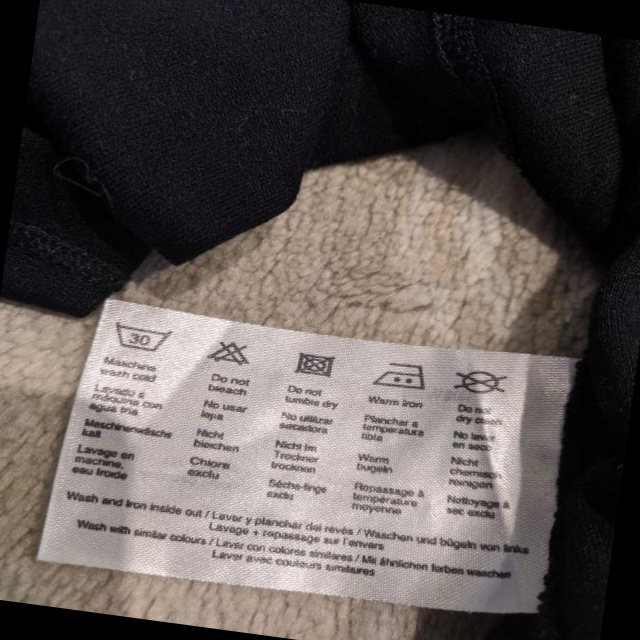30C: (112, 317, 179, 358)
DN_bleach: (204, 335, 257, 369)
DN_dry_clean: (452, 363, 510, 400)
DN_tumble_dry: (292, 346, 342, 382)
iron_medium: (373, 354, 431, 393)
